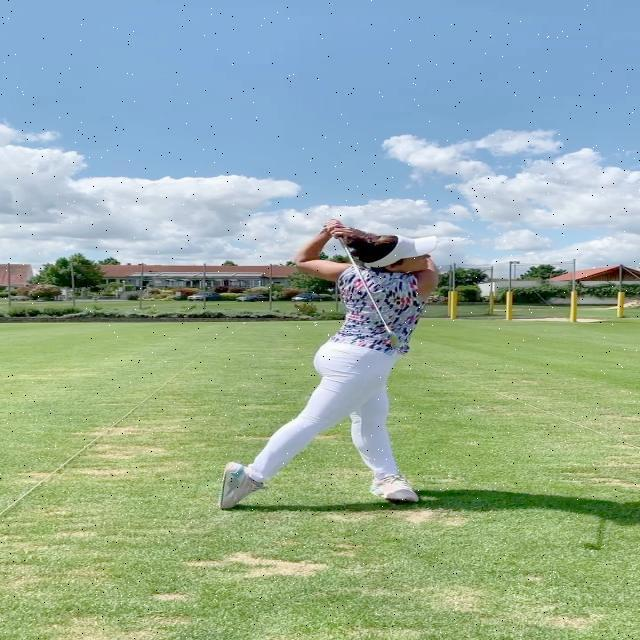ClubHead: (375, 331, 400, 347)
